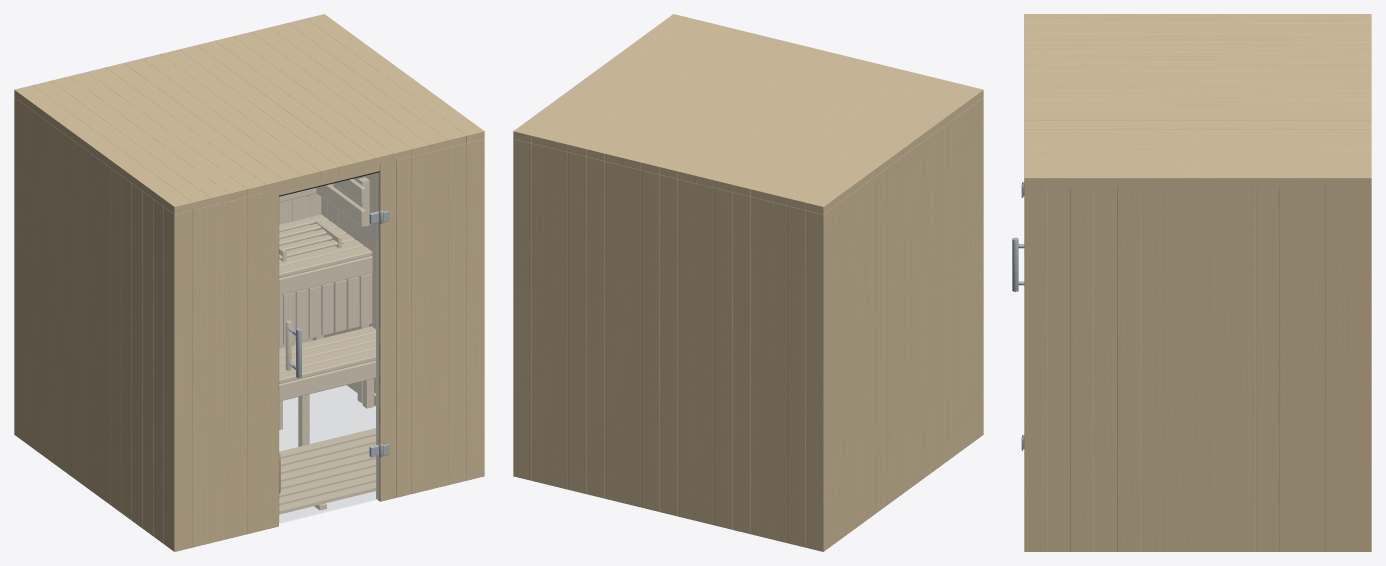
File: espe-front-vertical.glb
3 renders of one model, left to right at view 1: azimuth 30°, elevation 25°; view 2: azimuth 150°, elevation 25°; view 3: azimuth 270°, elevation 25°, orthographic. The views are drawn at different scales.
Visible parts, largest first — view 1: Door glass 8mm, Door jamb.001, Front board 02, Front board 16, Front board 14, Front board 01, Front board 03, Front board 04, Front board 15, Front board 17, Door jamb, Front board 05 (+59 smaller); view 2: Back board 09, Back board 16, Back board 02, Back board 05, Back board 07, Back board 11, Back board 13, Back board 04, Back board 06, Back board 08, Back board 12, Back board 14 (+37 smaller); view 3: Right board 01, Right board 02, Right board 03, Right board 05, Right board 06, Right board 07, Right board 08, Right board 09, Right board 12, Right board 13, Right board 14, Right board 15 (+20 smaller).
Boxes of the visible parts, bbox=[...] form: Door glass 8mm: bbox=[279, 172, 379, 523]; Door jamb.001: bbox=[376, 160, 396, 501]; Front board 02: bbox=[192, 205, 210, 547]; Front board 16: bbox=[448, 143, 466, 484]; Front board 14: bbox=[411, 152, 429, 493]; Front board 01: bbox=[174, 210, 192, 551]; Front board 03: bbox=[211, 201, 229, 542]; Front board 04: bbox=[229, 197, 247, 538]; Front board 15: bbox=[430, 148, 448, 489]; Front board 17: bbox=[466, 139, 484, 480]; Door jamb: bbox=[262, 189, 278, 530]; Front board 05: bbox=[247, 193, 262, 534]; Back board 09: bbox=[659, 174, 677, 516]; Back board 16: bbox=[787, 205, 805, 547]; Back board 02: bbox=[531, 143, 549, 484]; Back board 05: bbox=[586, 156, 604, 498]; Back board 07: bbox=[622, 165, 640, 507]; Back board 11: bbox=[695, 183, 713, 525]; Back board 13: bbox=[732, 192, 750, 534]; Back board 04: bbox=[568, 152, 586, 493]; Back board 06: bbox=[604, 161, 622, 502]; Back board 08: bbox=[641, 170, 659, 511]; Back board 12: bbox=[714, 188, 732, 529]; Back board 14: bbox=[750, 197, 768, 538]; Right board 01: bbox=[1024, 186, 1047, 551]; Right board 02: bbox=[1047, 186, 1070, 551]; Right board 03: bbox=[1070, 186, 1093, 551]; Right board 05: bbox=[1117, 186, 1140, 551]; Right board 06: bbox=[1140, 186, 1163, 551]; Right board 07: bbox=[1163, 186, 1186, 551]; Right board 08: bbox=[1186, 186, 1209, 551]; Right board 09: bbox=[1209, 186, 1232, 551]; Right board 12: bbox=[1279, 186, 1302, 551]; Right board 13: bbox=[1302, 186, 1325, 551]; Right board 14: bbox=[1325, 186, 1348, 551]; Right board 15: bbox=[1348, 186, 1371, 551].
Bounding box in the file's own units: 1.9 × 2.02 × 1.76.
Materials: 9 (2 with a texture image).
